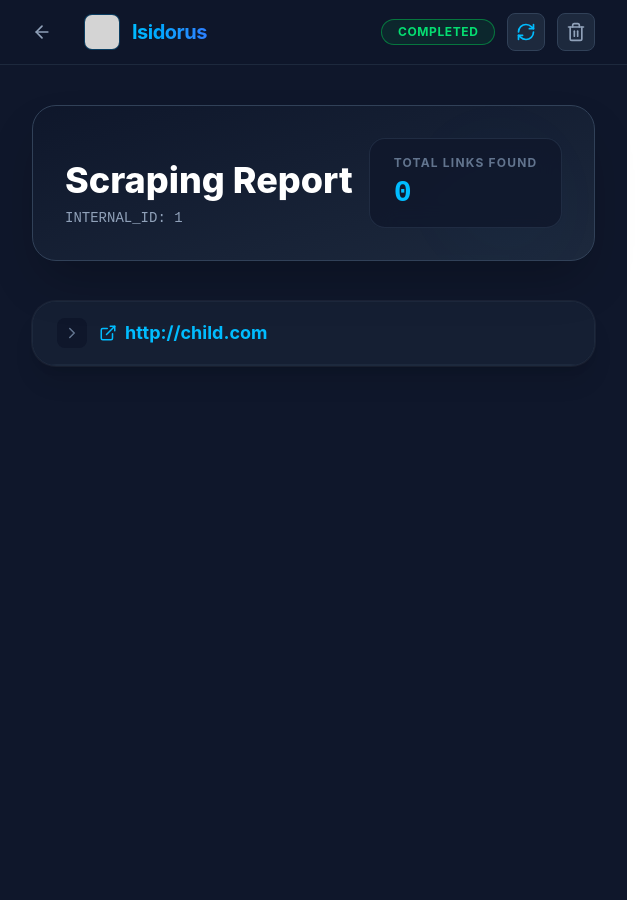
it: ScrapingDetail › toggles collapsible sections when clicking headers
The width and height of the screenshot is (644, 900).
Expected: the text "http://child.com" is shown, x1=125 y1=319 x2=268 y2=347
Expected: the text "AI Intelligence Summary" is not shown
# Click the toggle header
Click the button "http://child.com" at [196, 332], box x1=33 y1=302 x2=594 y2=365
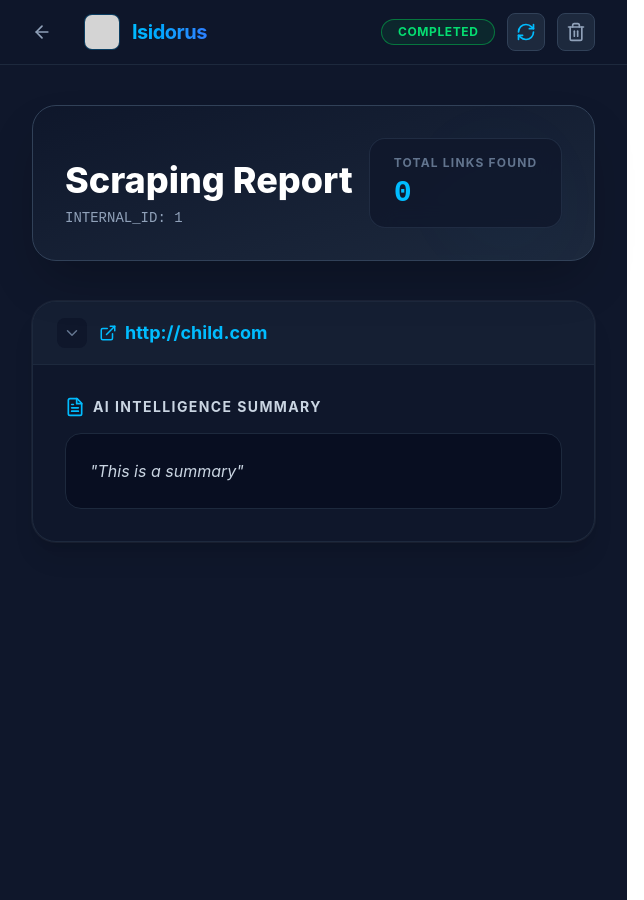
Expected: the heading "AI Intelligence Summary" is shown, x1=93 y1=397 x2=322 y2=417
Expected: the text "\"This is a summary\"" is shown, x1=65 y1=433 x2=562 y2=509
# Click again to collapse
Click the button "http://child.com" at [196, 332], box x1=33 y1=302 x2=594 y2=365
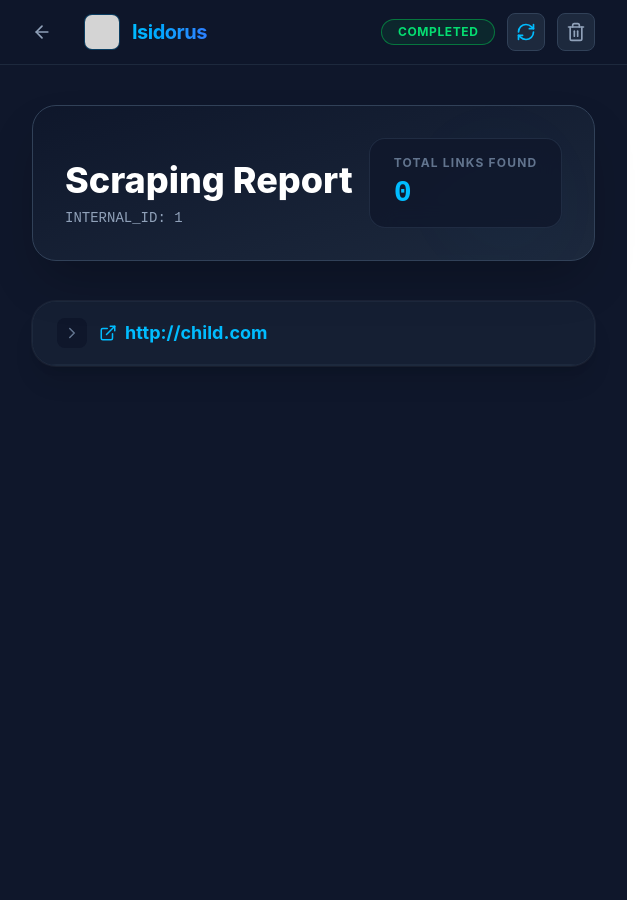
Expected: the heading "AI Intelligence Summary" is gone
